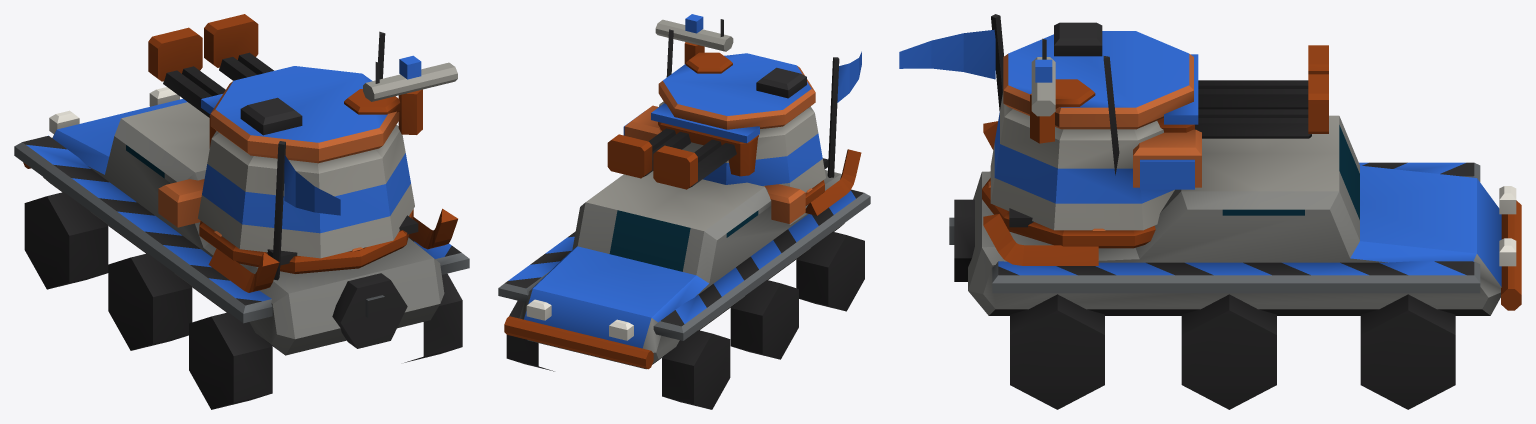
The picture shows the model from 3 angles, left to right: view 1: azimuth 30°, elevation 25°; view 2: azimuth 150°, elevation 25°; view 3: azimuth 270°, elevation 25°; orthographic projection. The views are drawn at different scales.
Visible parts, largest first — view 1: body, turret, spinAxleR, barrel, spinAxleF, spinAxleM, spinRadar, swayFlag; view 2: body, turret, barrel, spinAxleF, spinAxleM, spinAxleR, spinRadar, swayFlag; view 3: body, turret, barrel, spinAxleF, spinAxleM, spinAxleR, swayFlag, spinRadar.
Boxes of the visible parts, left/top/right/bottom form: body: left=14, top=31, right=469, bottom=355; turret: left=198, top=66, right=422, bottom=258; spinAxleR: left=189, top=273, right=462, bottom=409; barrel: left=148, top=14, right=273, bottom=148; spinAxleF: left=24, top=192, right=108, bottom=289; spinAxleM: left=108, top=253, right=192, bottom=350; spinRadar: left=363, top=55, right=457, bottom=101; swayFlag: left=284, top=155, right=340, bottom=215; body: left=498, top=29, right=870, bottom=369; turret: left=623, top=42, right=825, bottom=192; barrel: left=607, top=103, right=759, bottom=189; spinAxleF: left=506, top=301, right=730, bottom=409; spinAxleM: left=730, top=280, right=798, bottom=359; spinAxleR: left=796, top=232, right=864, bottom=311; spinRadar: left=655, top=14, right=733, bottom=51; swayFlag: left=837, top=51, right=861, bottom=102; body: left=949, top=14, right=1521, bottom=315; turret: left=990, top=22, right=1201, bottom=230; barrel: left=1157, top=45, right=1328, bottom=138; spinAxleF: left=1360, top=294, right=1455, bottom=409; spinAxleM: left=1181, top=294, right=1276, bottom=409; spinAxleR: left=1010, top=294, right=1104, bottom=409; swayFlag: left=899, top=29, right=995, bottom=79; spinRadar: left=1031, top=38, right=1055, bottom=116.
Size of the model in its own units: 0.84 by 1.07 by 1.81.
